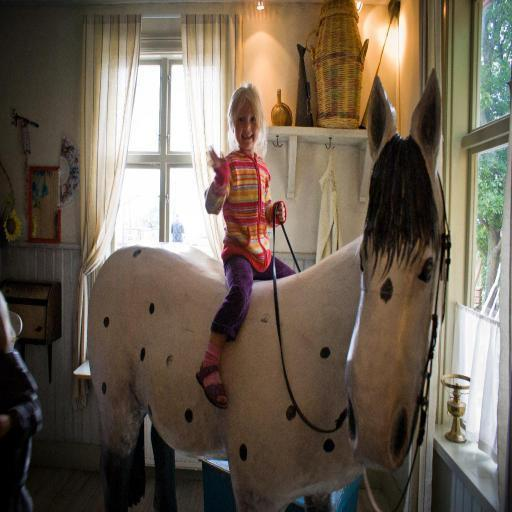horse: (86, 68, 446, 511)
